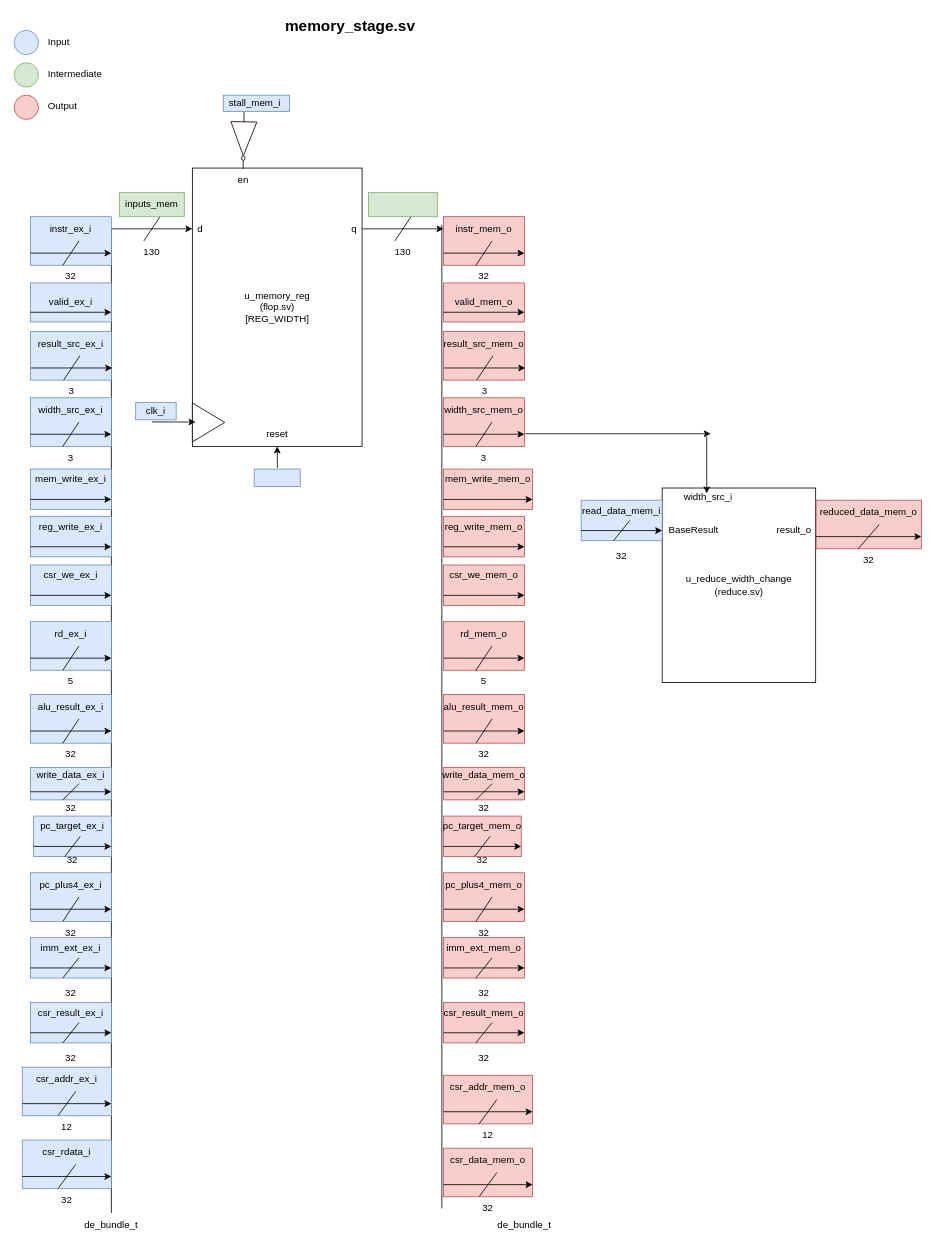
Image size: 942x1251. Some labels were removed from this diagram. Each missing label, with the centre of its shape:
outputs_mem: [402,204]
reset_i: [276,477]
